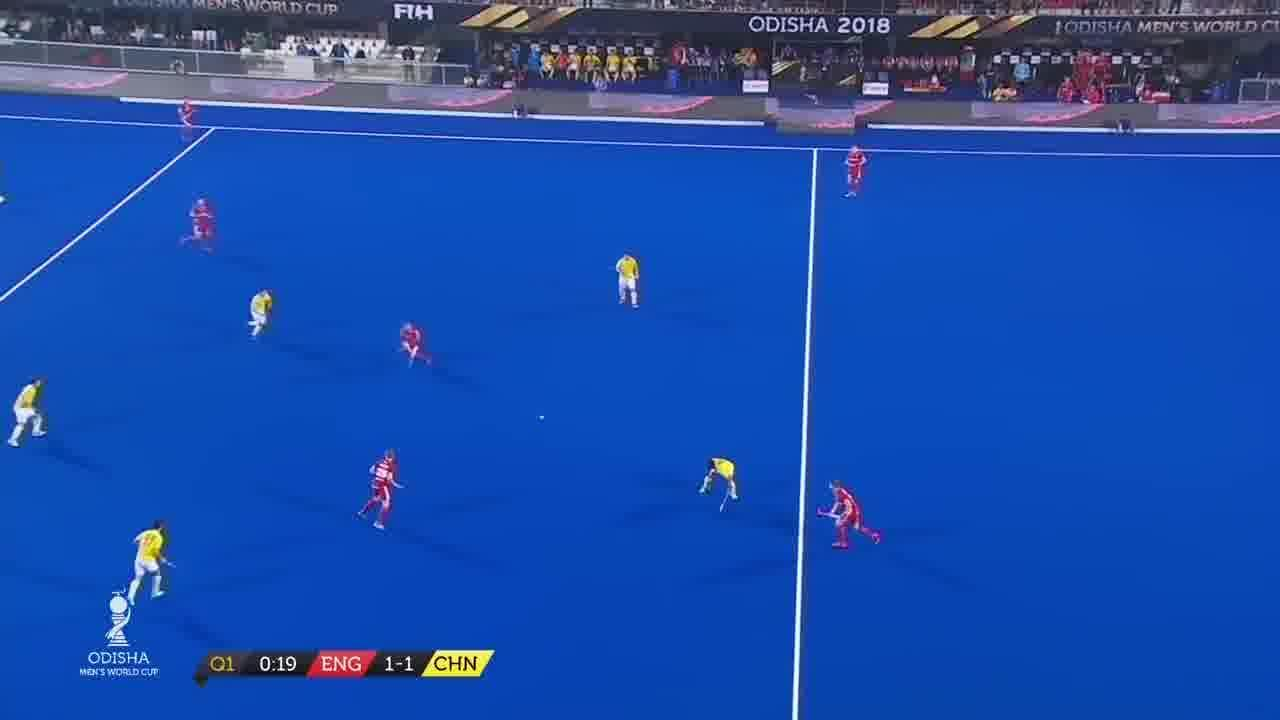ball: (534, 413, 551, 424)
